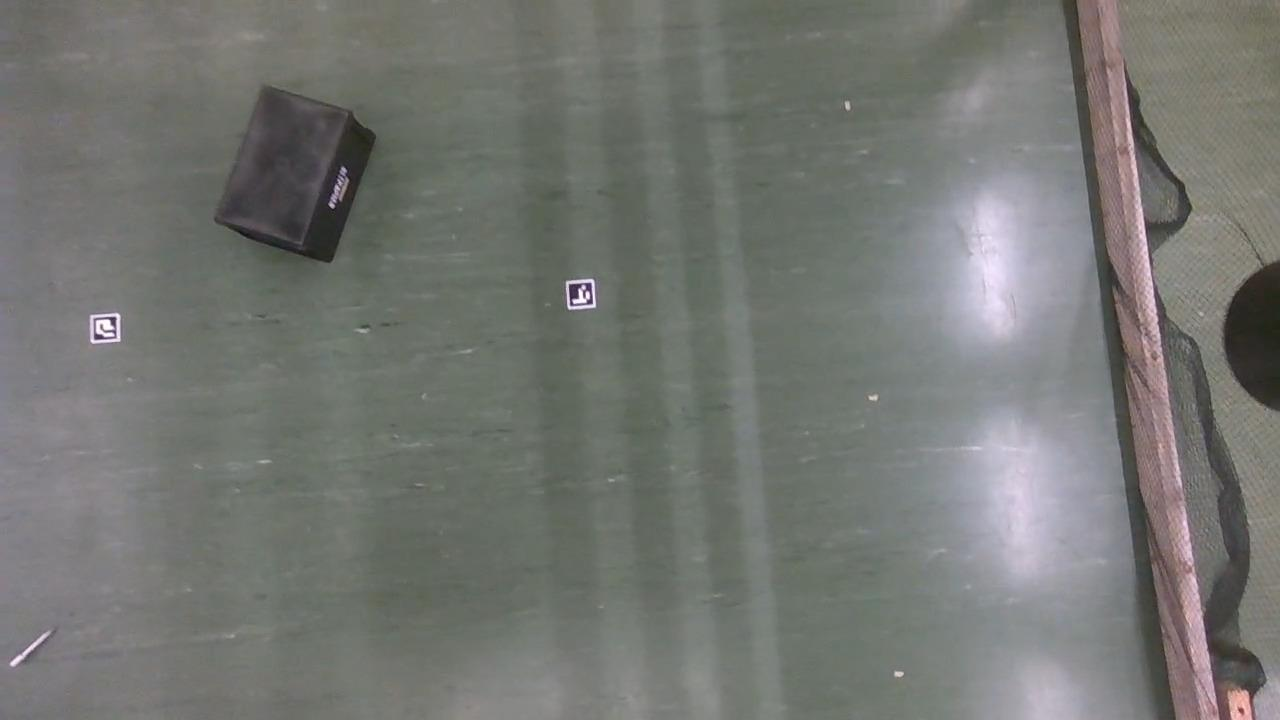probes: (8, 627, 55, 668)
rako: (213, 86, 377, 264)
